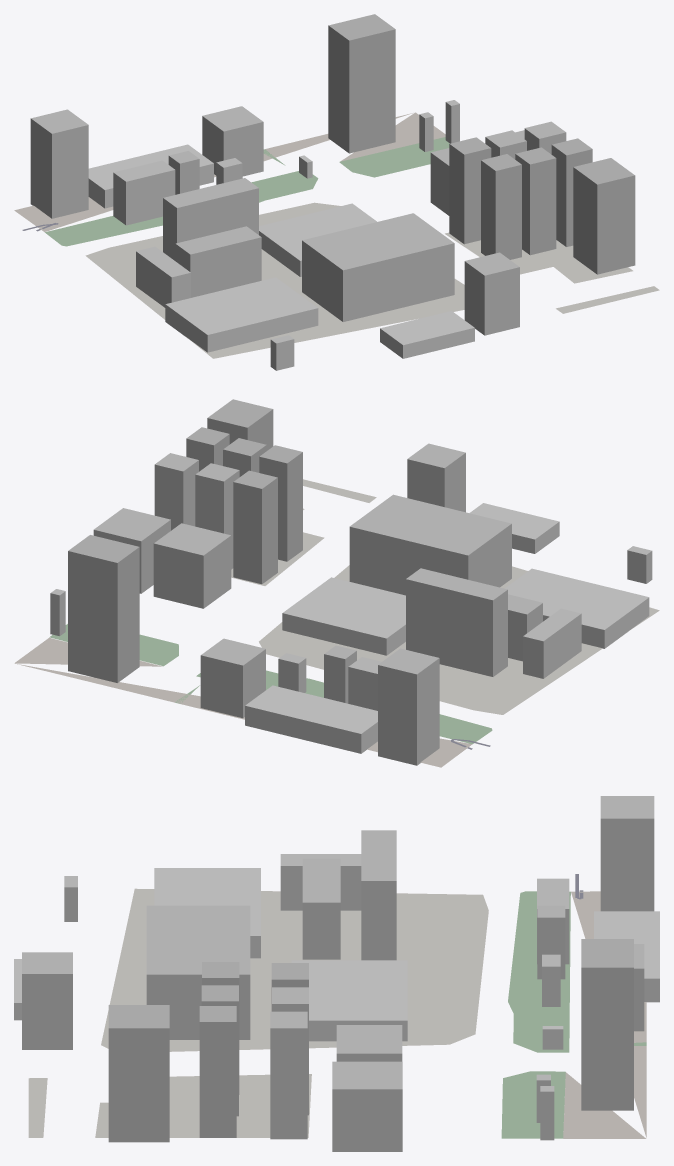
The model's file is 116_84_mid.glb.
3 renders of one model, top to bottom at view 1: azimuth 30°, elevation 25°; view 2: azimuth 150°, elevation 25°; view 3: azimuth 270°, elevation 25°, orthographic. The views are drawn at different scales.
Size of the model in its own units: 522 by 129 by 523.
